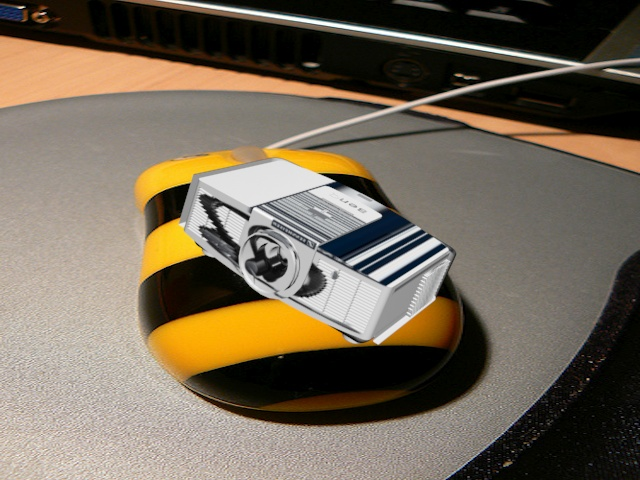projector: (177, 153, 464, 352)
